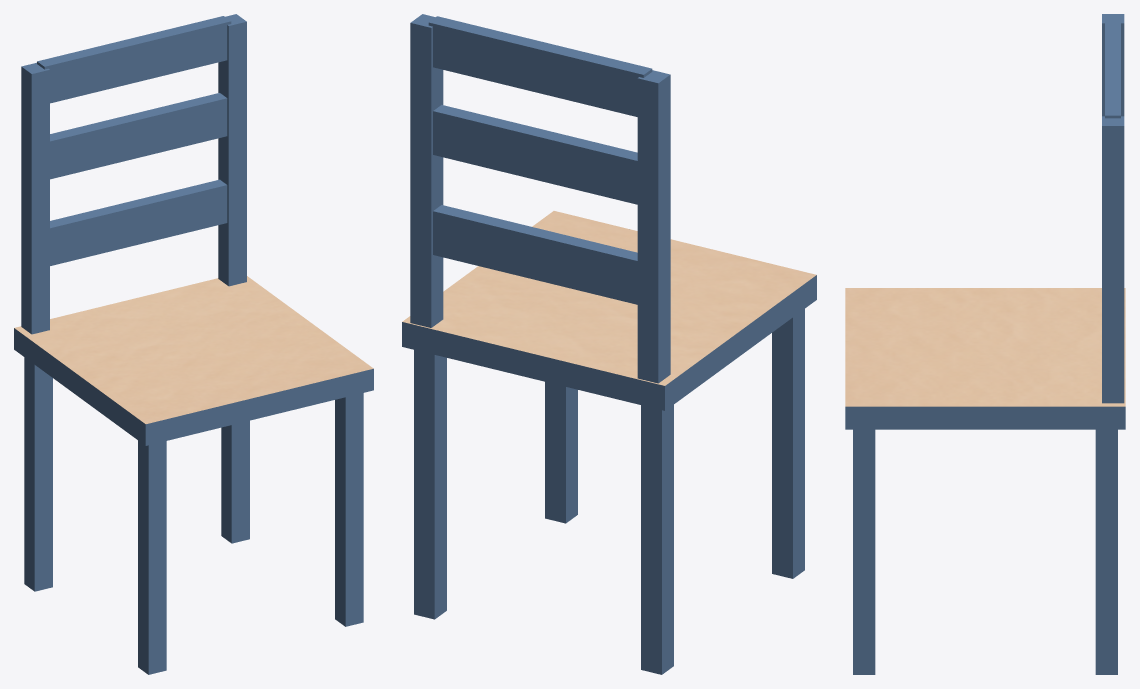
Rendered from Chair.fbx.
The picture shows the model from 3 angles, left to right: view 1: azimuth 30°, elevation 25°; view 2: azimuth 150°, elevation 25°; view 3: azimuth 270°, elevation 25°; orthographic projection. The views are drawn at different scales.
Parts seen in each view (by area): view 1: Chair; view 2: Chair; view 3: Chair.
Boxes of the visible parts, x1=… form: Chair: x1=14, y1=14, x2=373, y2=674; Chair: x1=402, y1=14, x2=816, y2=674; Chair: x1=845, y1=14, x2=1125, y2=674.
Bounding box in the file's own units: 0.44 × 0.955 × 0.44.
1 material, 1 textured.
